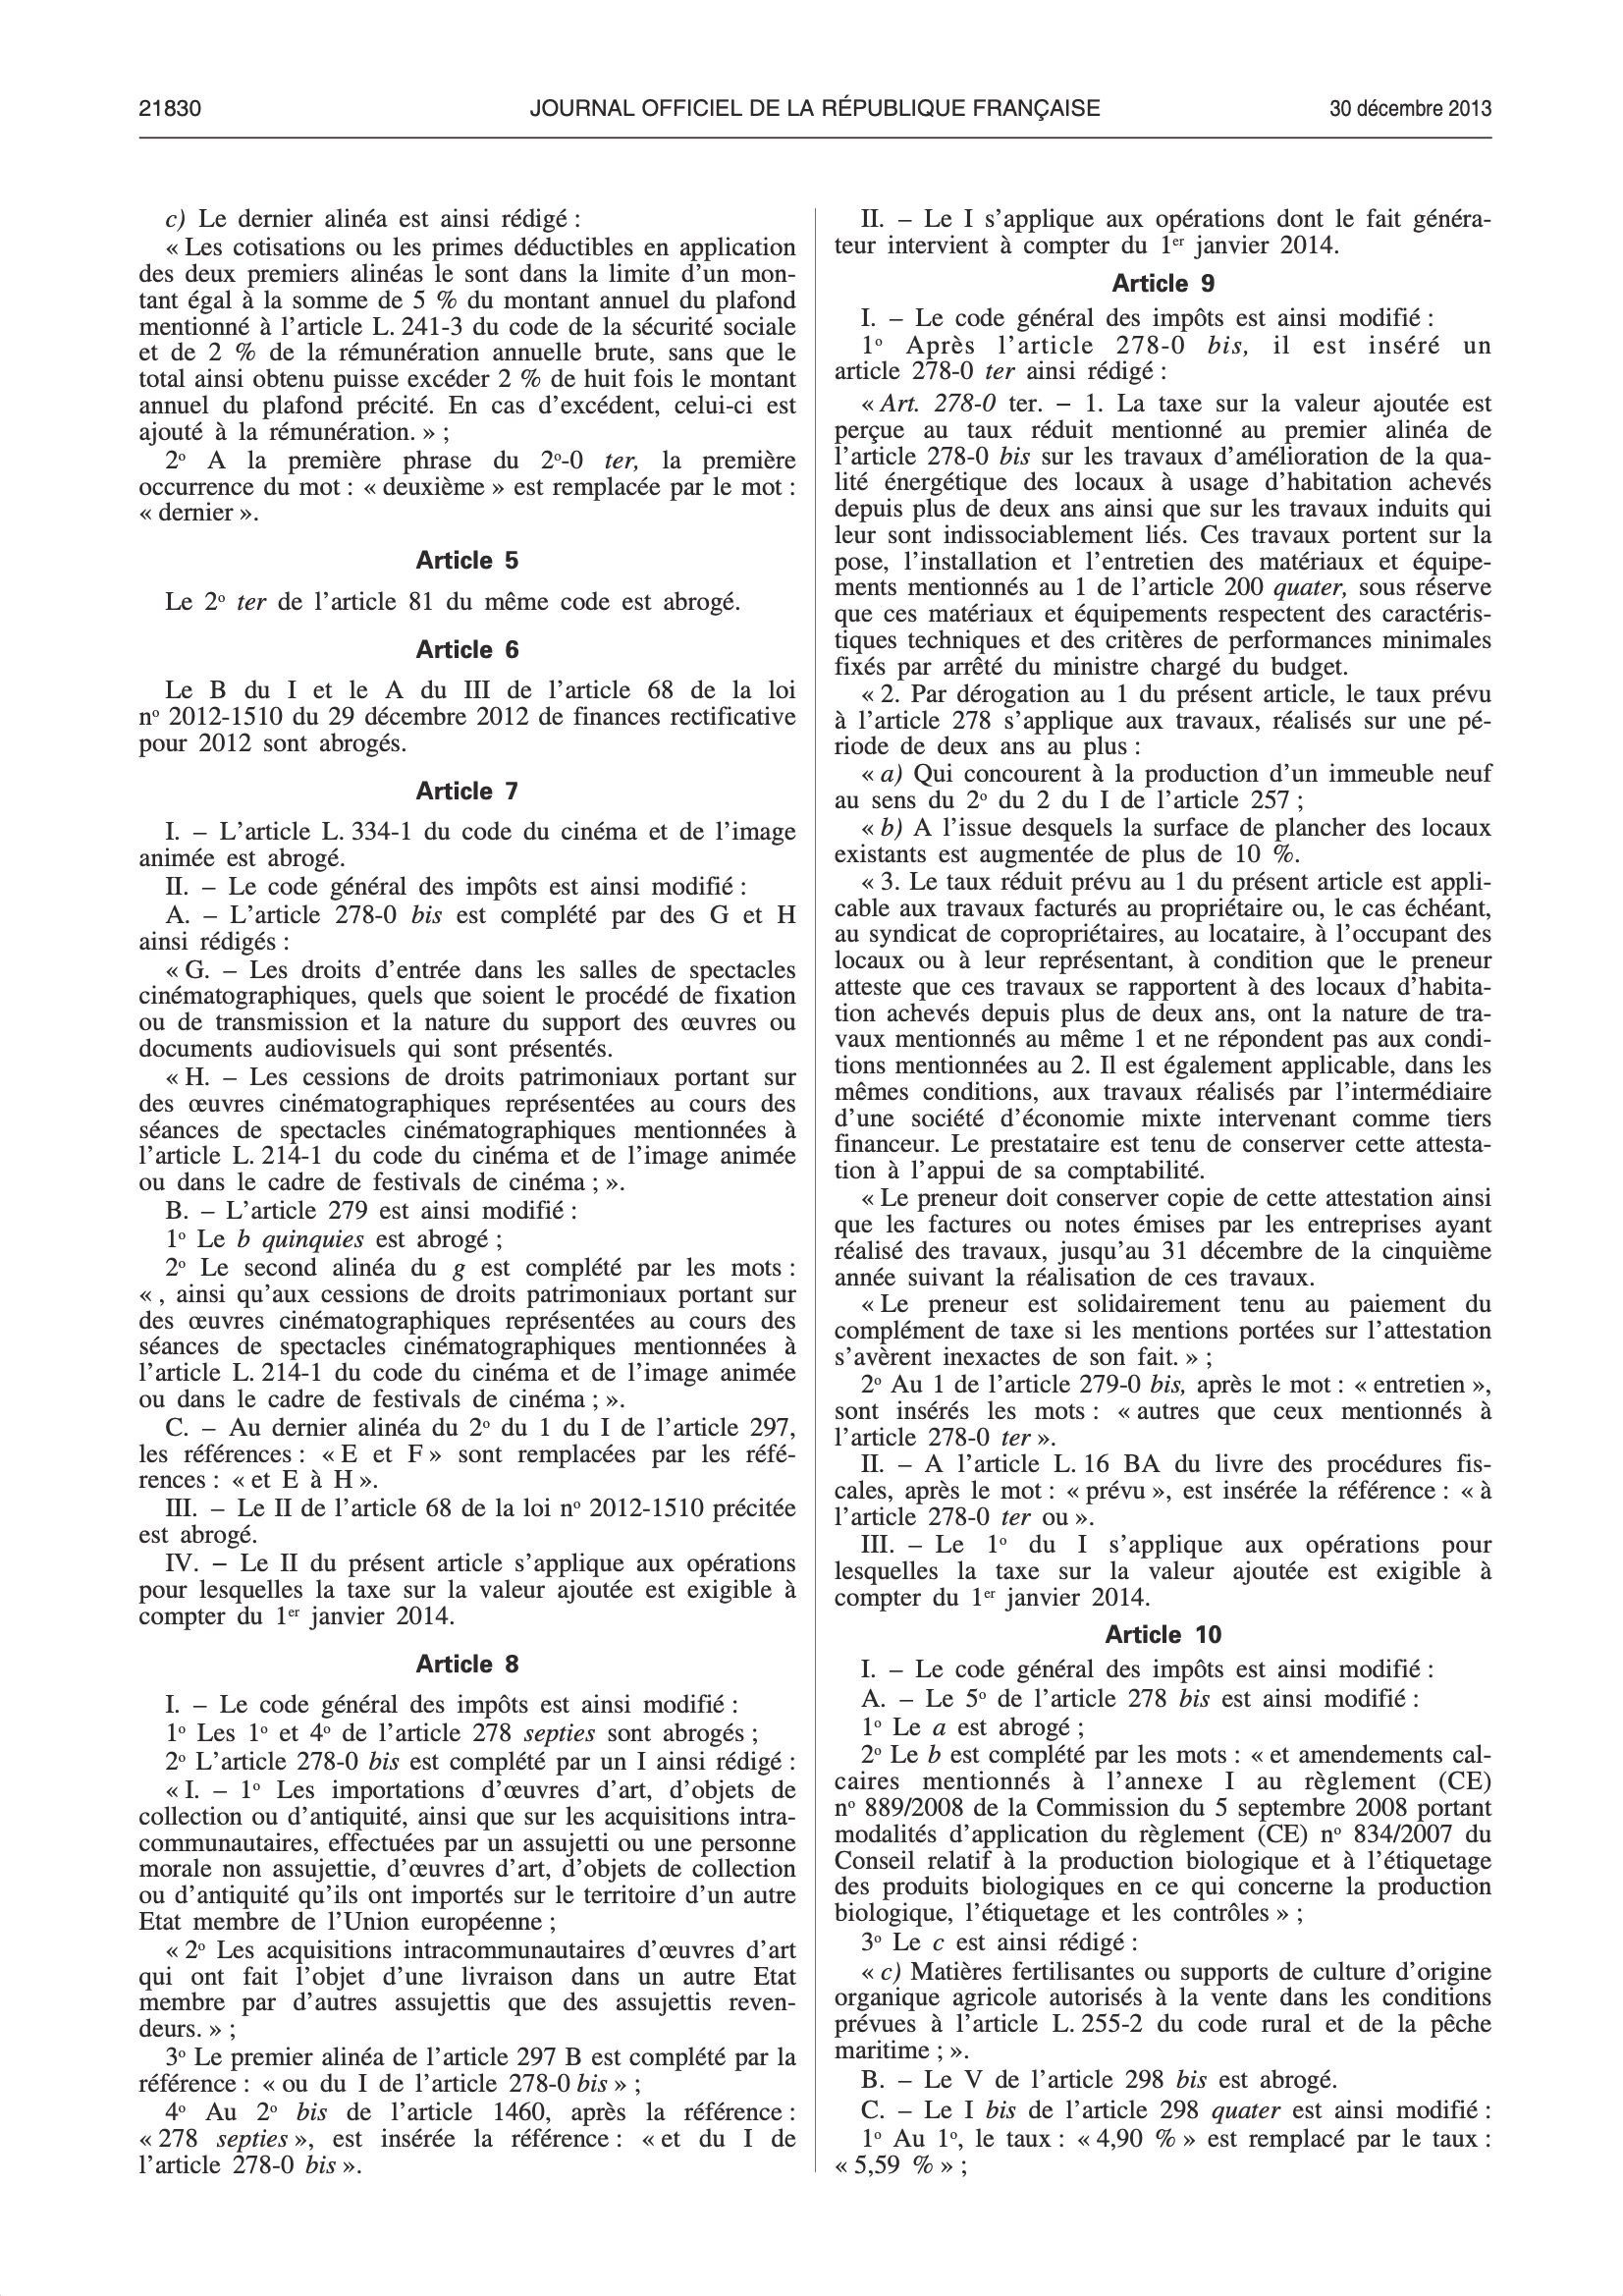MainZone-Head: (405, 539, 525, 580), (407, 770, 525, 810), (406, 630, 526, 668), (1096, 1615, 1228, 1649), (407, 1645, 525, 1682), (1104, 265, 1223, 299)
MainZone-ListItem: (825, 868, 1499, 1184), (825, 390, 1497, 680), (826, 1741, 1498, 1926), (128, 1251, 803, 1412), (130, 1776, 804, 1936), (129, 1061, 802, 1196), (129, 955, 800, 1062), (127, 1935, 801, 2041), (826, 1959, 1499, 2063), (127, 2097, 802, 2185), (125, 1548, 801, 1634), (128, 446, 803, 530), (826, 1530, 1499, 1614), (127, 1413, 802, 1495), (826, 1369, 1499, 1449), (825, 1449, 1497, 1530), (826, 679, 1497, 758), (826, 198, 1495, 263), (826, 2124, 1494, 2185), (127, 814, 803, 873), (127, 1492, 800, 1548), (127, 2042, 800, 2098), (130, 901, 801, 957), (825, 814, 1497, 869), (826, 332, 1494, 387), (825, 759, 1496, 813), (826, 299, 1476, 333), (828, 1927, 1485, 1960), (132, 871, 795, 902), (133, 1718, 791, 1749), (832, 1650, 1451, 1683), (831, 1682, 1434, 1716), (133, 1687, 746, 1719), (149, 1746, 781, 1777), (827, 2095, 1494, 2121), (828, 2063, 1382, 2095), (126, 197, 584, 233), (133, 1196, 587, 1227), (136, 1225, 510, 1256), (834, 1713, 1089, 1742)
MainZone-P: (130, 233, 803, 445), (826, 1183, 1497, 1291), (127, 672, 799, 764), (825, 1290, 1497, 1371), (135, 582, 753, 622)
NumberingZone: (129, 88, 208, 130)
RunningTitleZone: (518, 82, 1109, 136), (1321, 89, 1497, 127)
